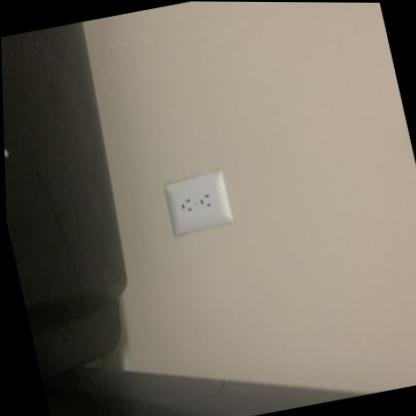OUTLET: (161, 169, 233, 236)
